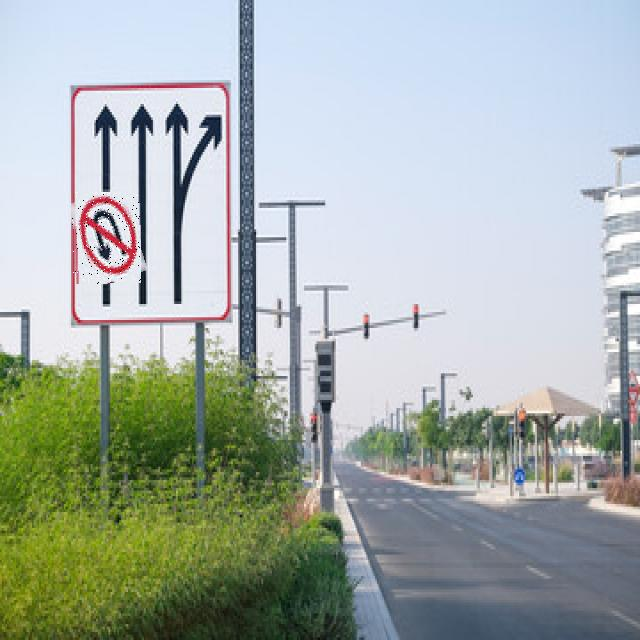no u turn: (72, 192, 141, 284)
